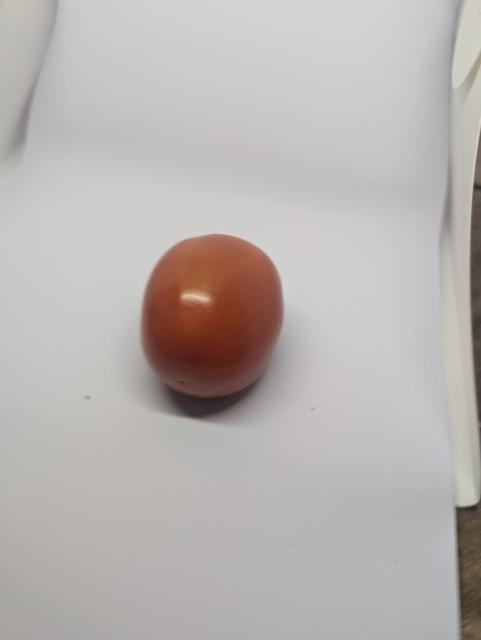red: (105, 225, 333, 419)
